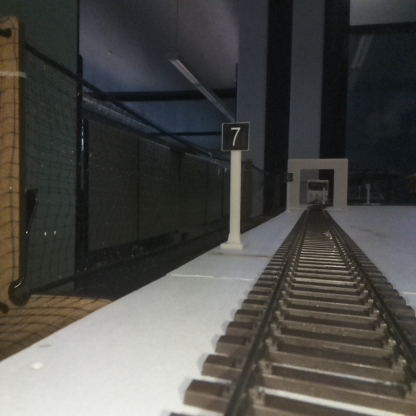black-info-7: (222, 123, 248, 247)
